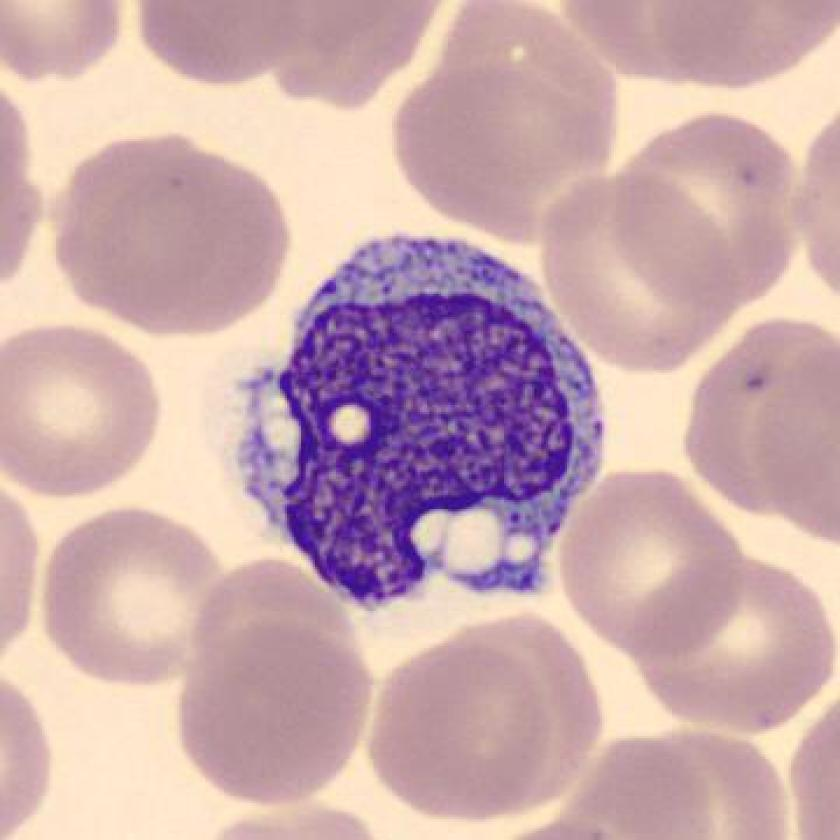monocyte: (211, 216, 631, 633)
